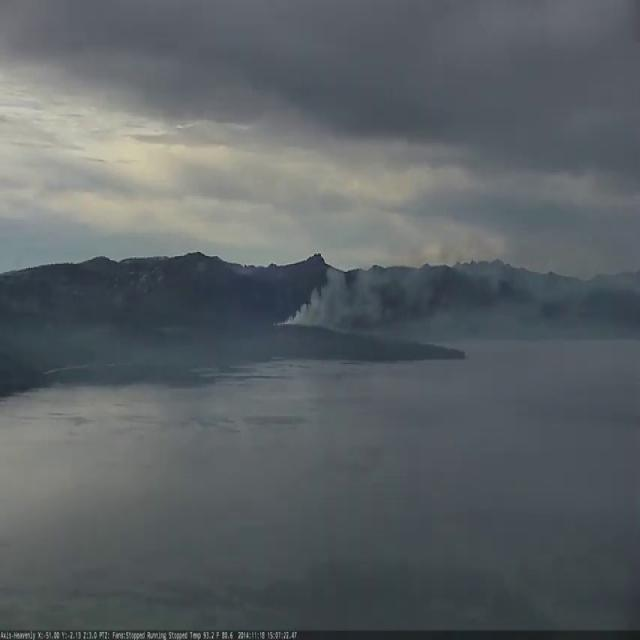smoke: (272, 229, 640, 339)
